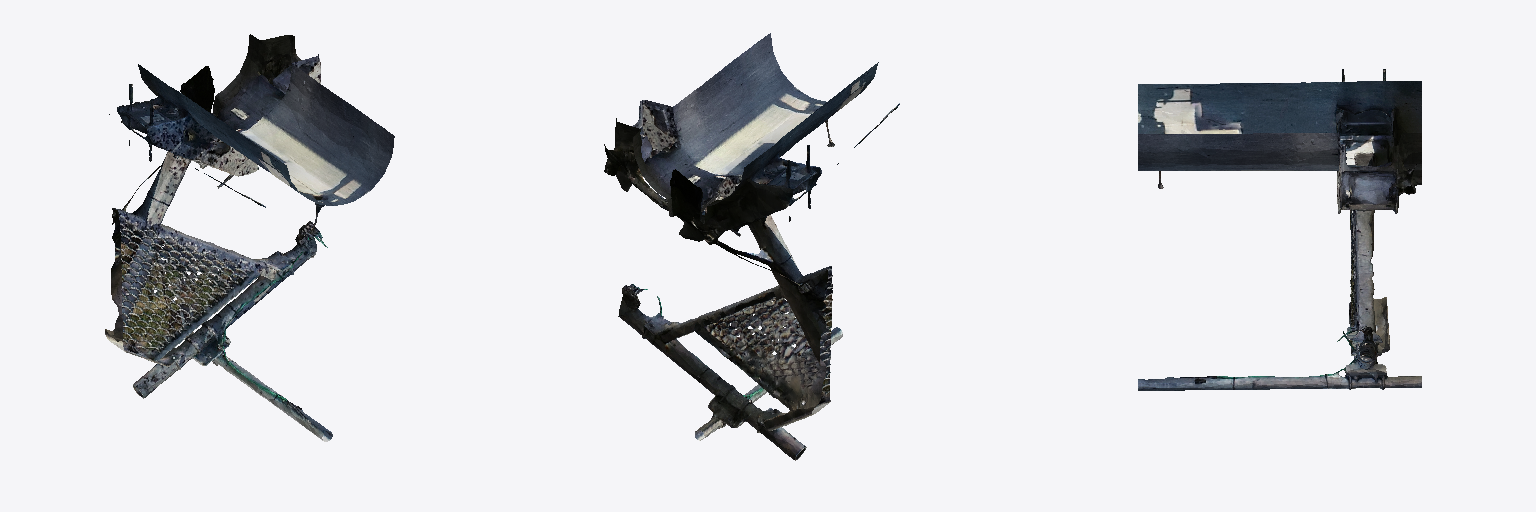
3 views of the same model, side by side, from view 1: azimuth 30°, elevation 25°; view 2: azimuth 150°, elevation 25°; view 3: azimuth 270°, elevation 25° (orthographic).
Size of the model in its own units: 1.16 by 1.72 by 1.42.
2 materials, 1 textured.